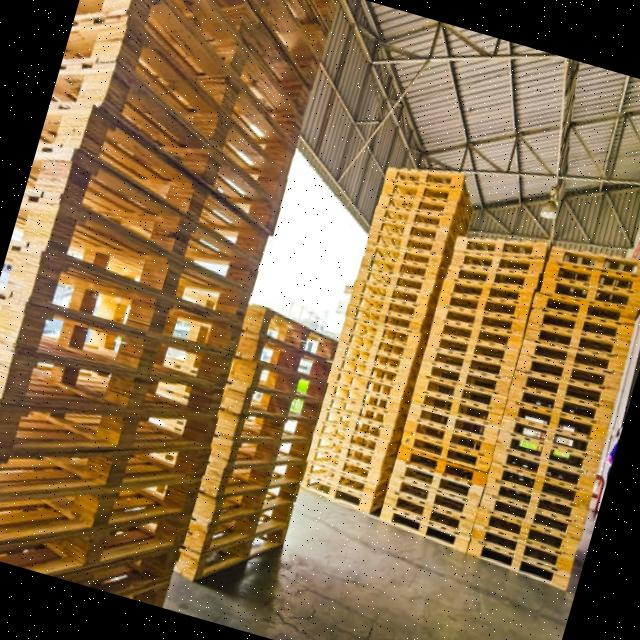Wooden-Pallets: (91, 56, 291, 249), (59, 132, 263, 296), (0, 393, 221, 466), (182, 512, 295, 591), (248, 298, 343, 376), (373, 503, 468, 565), (472, 540, 570, 598), (493, 415, 607, 463), (452, 224, 550, 266), (548, 241, 640, 283), (372, 159, 463, 199), (434, 293, 529, 329), (350, 275, 425, 309)
